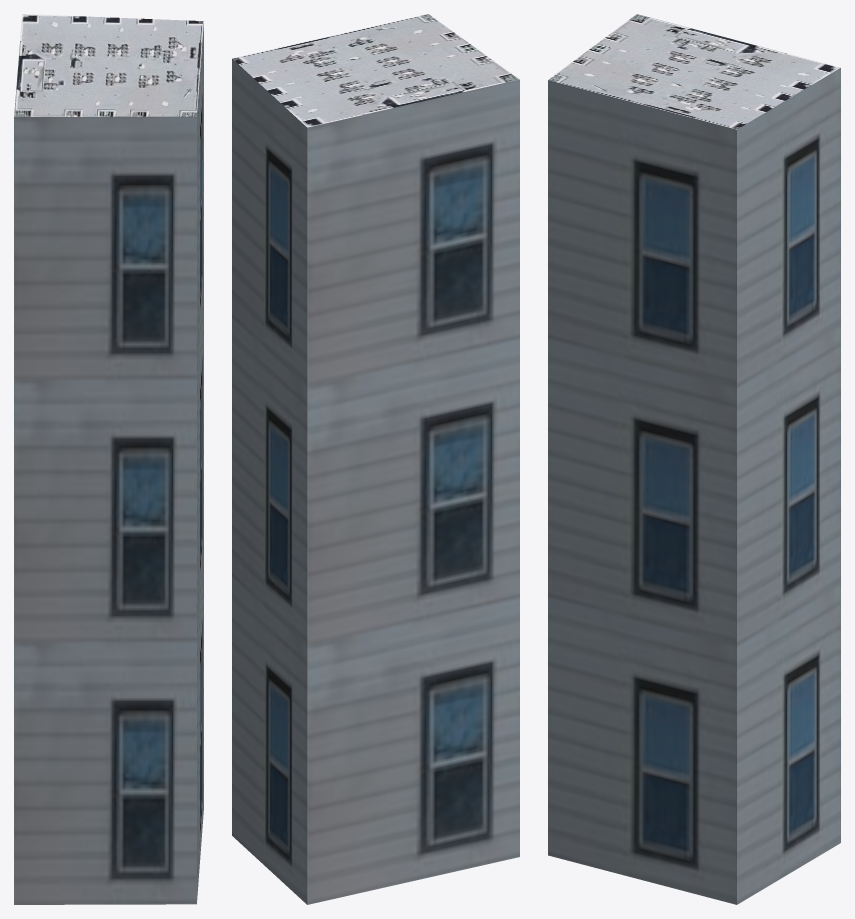
Rendered from ResTex__3126.fbx.
3 views of the same model, side by side, from view 1: azimuth 30°, elevation 25°; view 2: azimuth 150°, elevation 25°; view 3: azimuth 270°, elevation 25° (orthographic).
Parts seen in each view (by area): view 1: CityEngineMaterial_18_m, CityEngineMaterial_m; view 2: CityEngineMaterial_18_m, CityEngineMaterial_m; view 3: CityEngineMaterial_18_m, CityEngineMaterial_m.
Part boxes in pixels (box(x1,y1,x2,y2)): CityEngineMaterial_18_m: box(14, 23, 203, 904); CityEngineMaterial_m: box(14, 14, 203, 116); CityEngineMaterial_18_m: box(232, 58, 519, 904); CityEngineMaterial_m: box(232, 14, 519, 127); CityEngineMaterial_18_m: box(548, 68, 840, 904); CityEngineMaterial_m: box(548, 14, 840, 129).
Size of the model in its own units: 2.88 by 9 by 3.08.
Materials: 2 (2 with a texture image).
